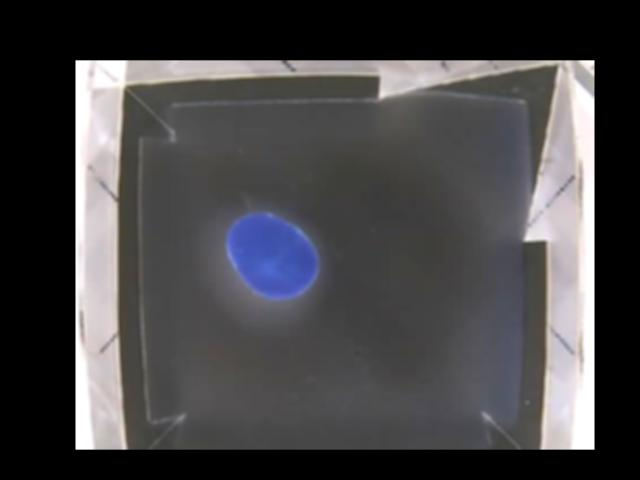Potato: (223, 208, 319, 301)
